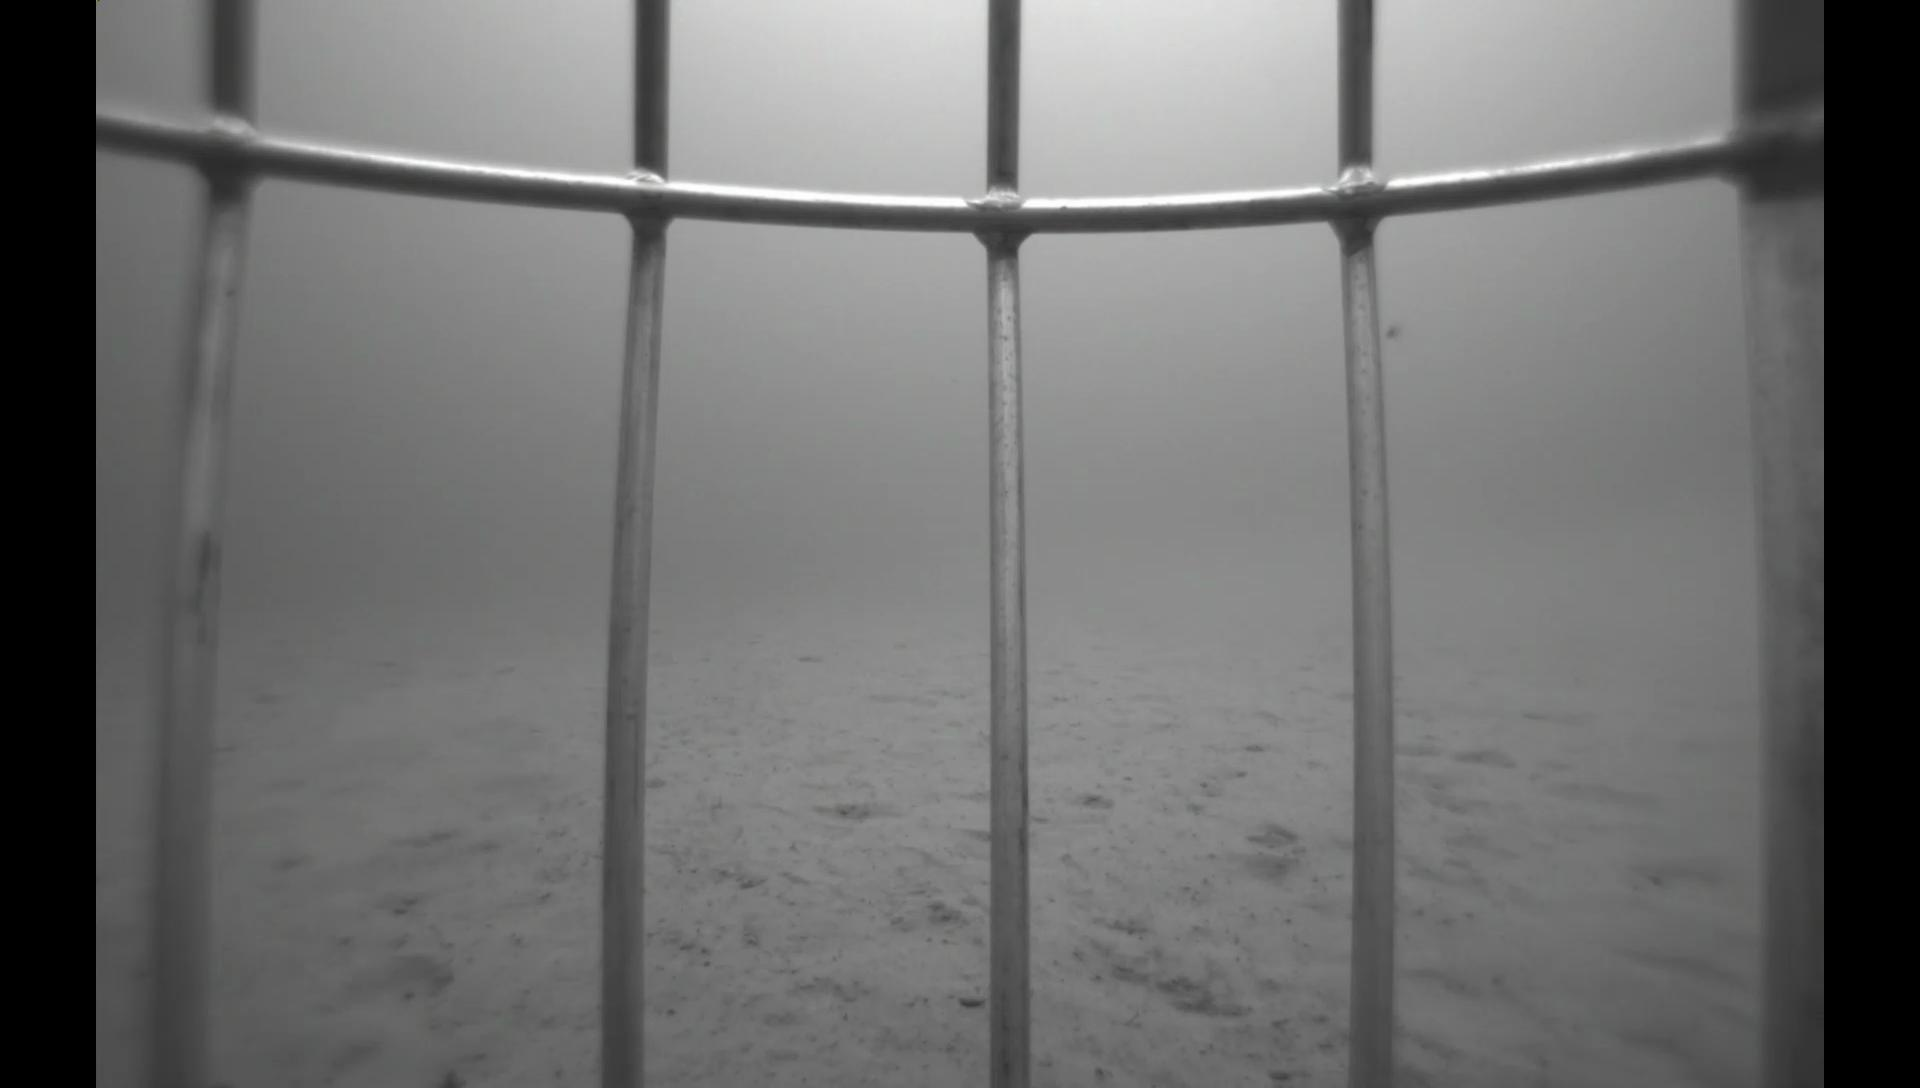PRISTIPOMOIDES-170151800: (407, 698, 564, 769)
